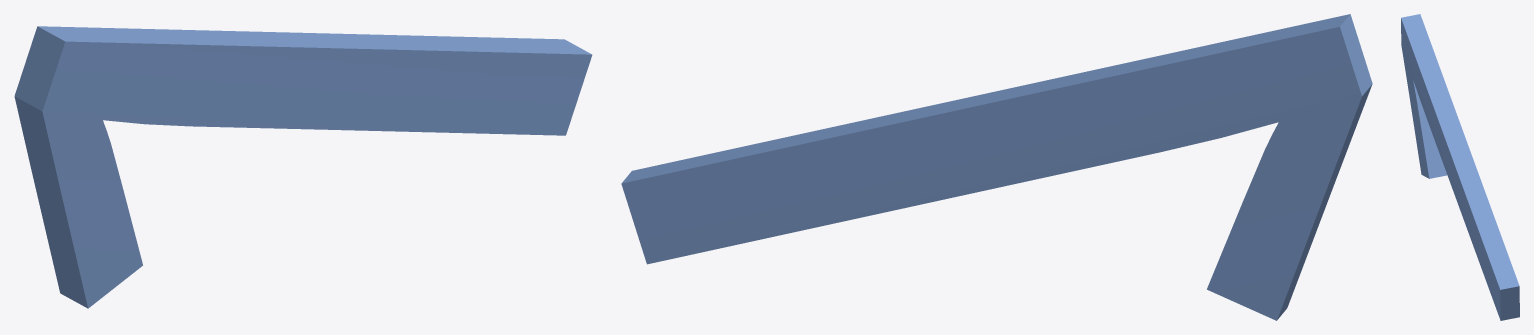
The model's file is Number_1.gltf.
The picture shows the model from 3 angles, left to right: view 1: azimuth 30°, elevation 25°; view 2: azimuth 150°, elevation 25°; view 3: azimuth 270°, elevation 25°; orthographic projection. The views are drawn at different scales.
Parts seen in each view (by area): view 1: Sub_3_Cell_2_1_Number_1; view 2: Sub_3_Cell_2_1_Number_1; view 3: Sub_3_Cell_2_1_Number_1.
Boxes of the visible parts, x1,y1,x2,y2 form: Sub_3_Cell_2_1_Number_1: (14, 26, 592, 308); Sub_3_Cell_2_1_Number_1: (621, 14, 1372, 320); Sub_3_Cell_2_1_Number_1: (1401, 14, 1519, 320).
Size of the model in its own units: 0.0241 by 0.0111 by 0.00754.
